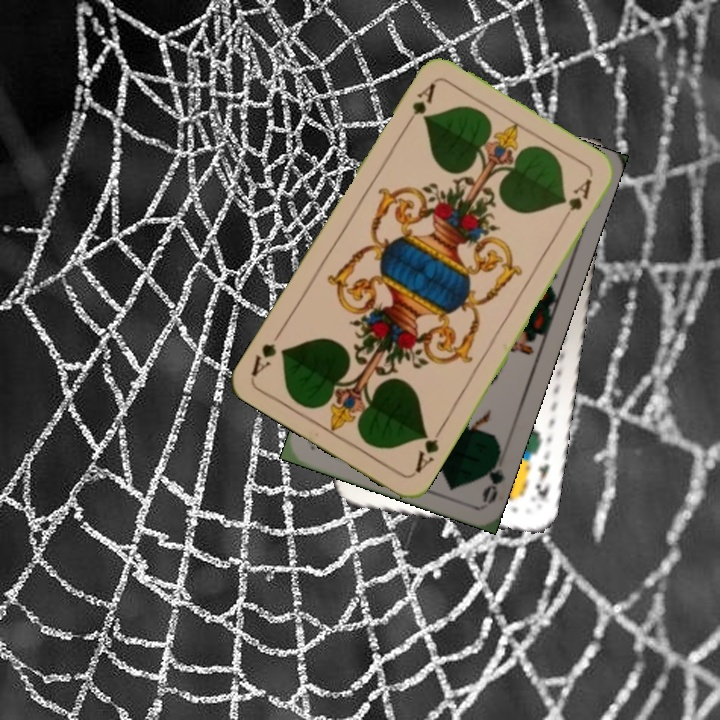EK: (531, 459, 552, 503)
GA: (401, 79, 439, 130), (411, 422, 446, 476)
GO: (476, 445, 507, 505)
